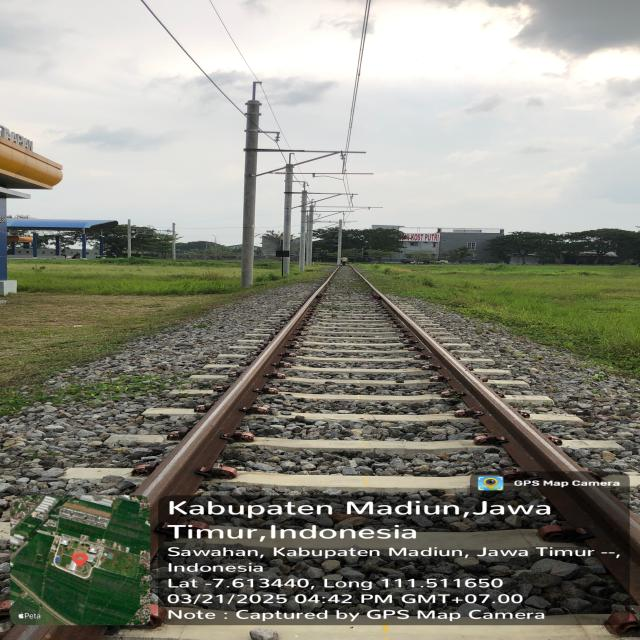rail-detection: (360, 276, 640, 604), (135, 276, 331, 554)
